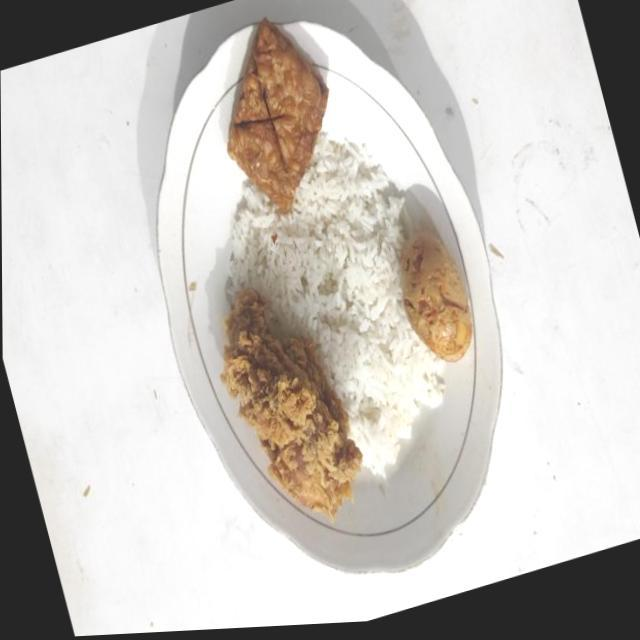nasi_putih: (226, 131, 444, 478)
tempe_goreng: (227, 18, 328, 212)
